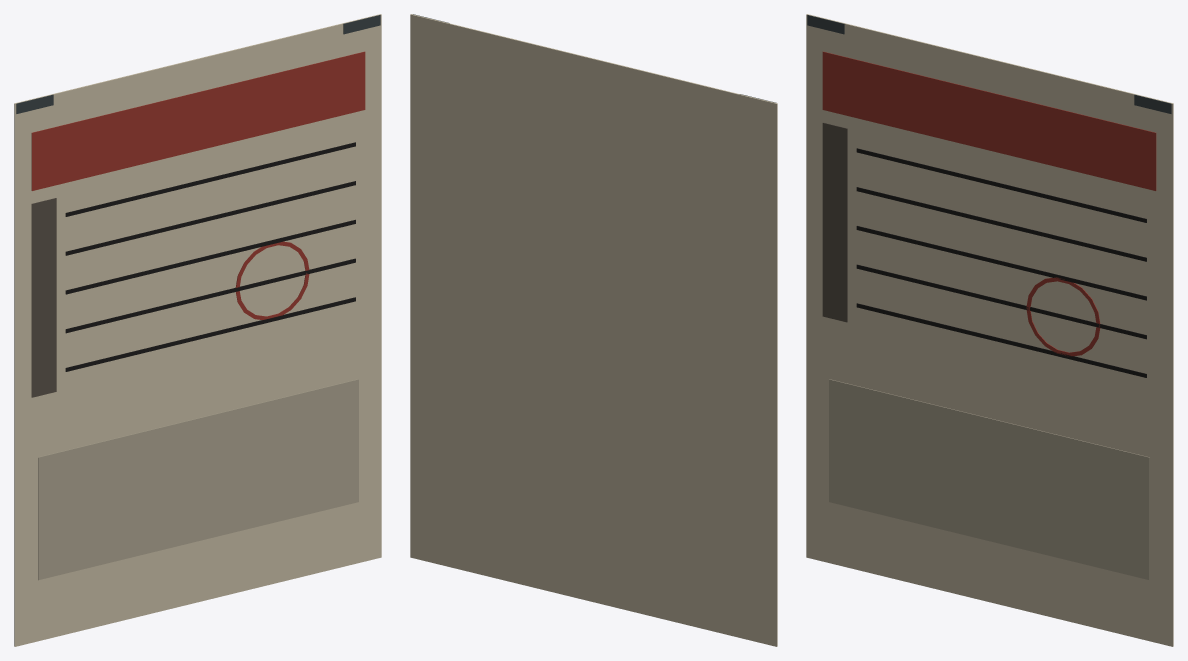
The model's file is poster-a1.glb.
3 renders of one model, left to right at view 1: azimuth 30°, elevation 25°; view 2: azimuth 150°, elevation 25°; view 3: azimuth 330°, elevation 25°, orthographic.
Visible parts, largest first — view 1: paper, plastic-light, accent-warm, rubber, fabric, glass; view 2: paper; view 3: paper, plastic-light, accent-warm, rubber, fabric, glass.
Part boxes in pixels (bbox=[...]): paper: bbox=[14, 14, 381, 646]; plastic-light: bbox=[38, 379, 358, 580]; accent-warm: bbox=[31, 51, 365, 320]; rubber: bbox=[65, 142, 355, 371]; fabric: bbox=[31, 198, 56, 397]; glass: bbox=[16, 15, 380, 113]; paper: bbox=[410, 14, 777, 646]; paper: bbox=[806, 14, 1173, 646]; plastic-light: bbox=[829, 379, 1149, 580]; accent-warm: bbox=[822, 51, 1156, 356]; rubber: bbox=[856, 148, 1146, 377]; fabric: bbox=[822, 122, 847, 322]; glass: bbox=[807, 15, 1171, 113].
Size of the model in its own units: 0.594 by 0.841 by 0.003.
